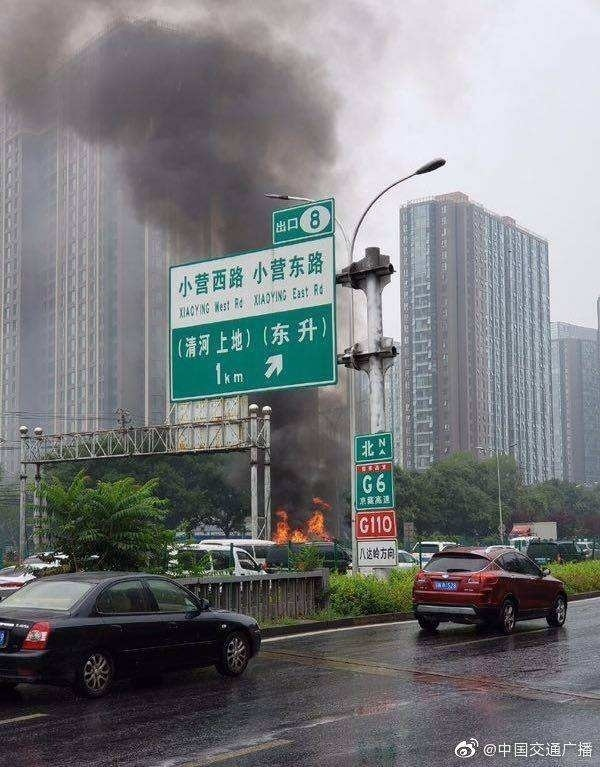fire: (272, 496, 336, 546)
